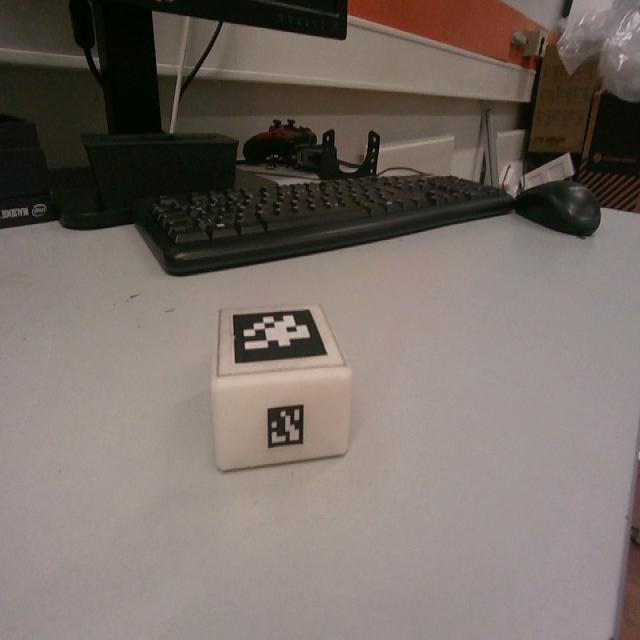Cube: (209, 301, 353, 471)
